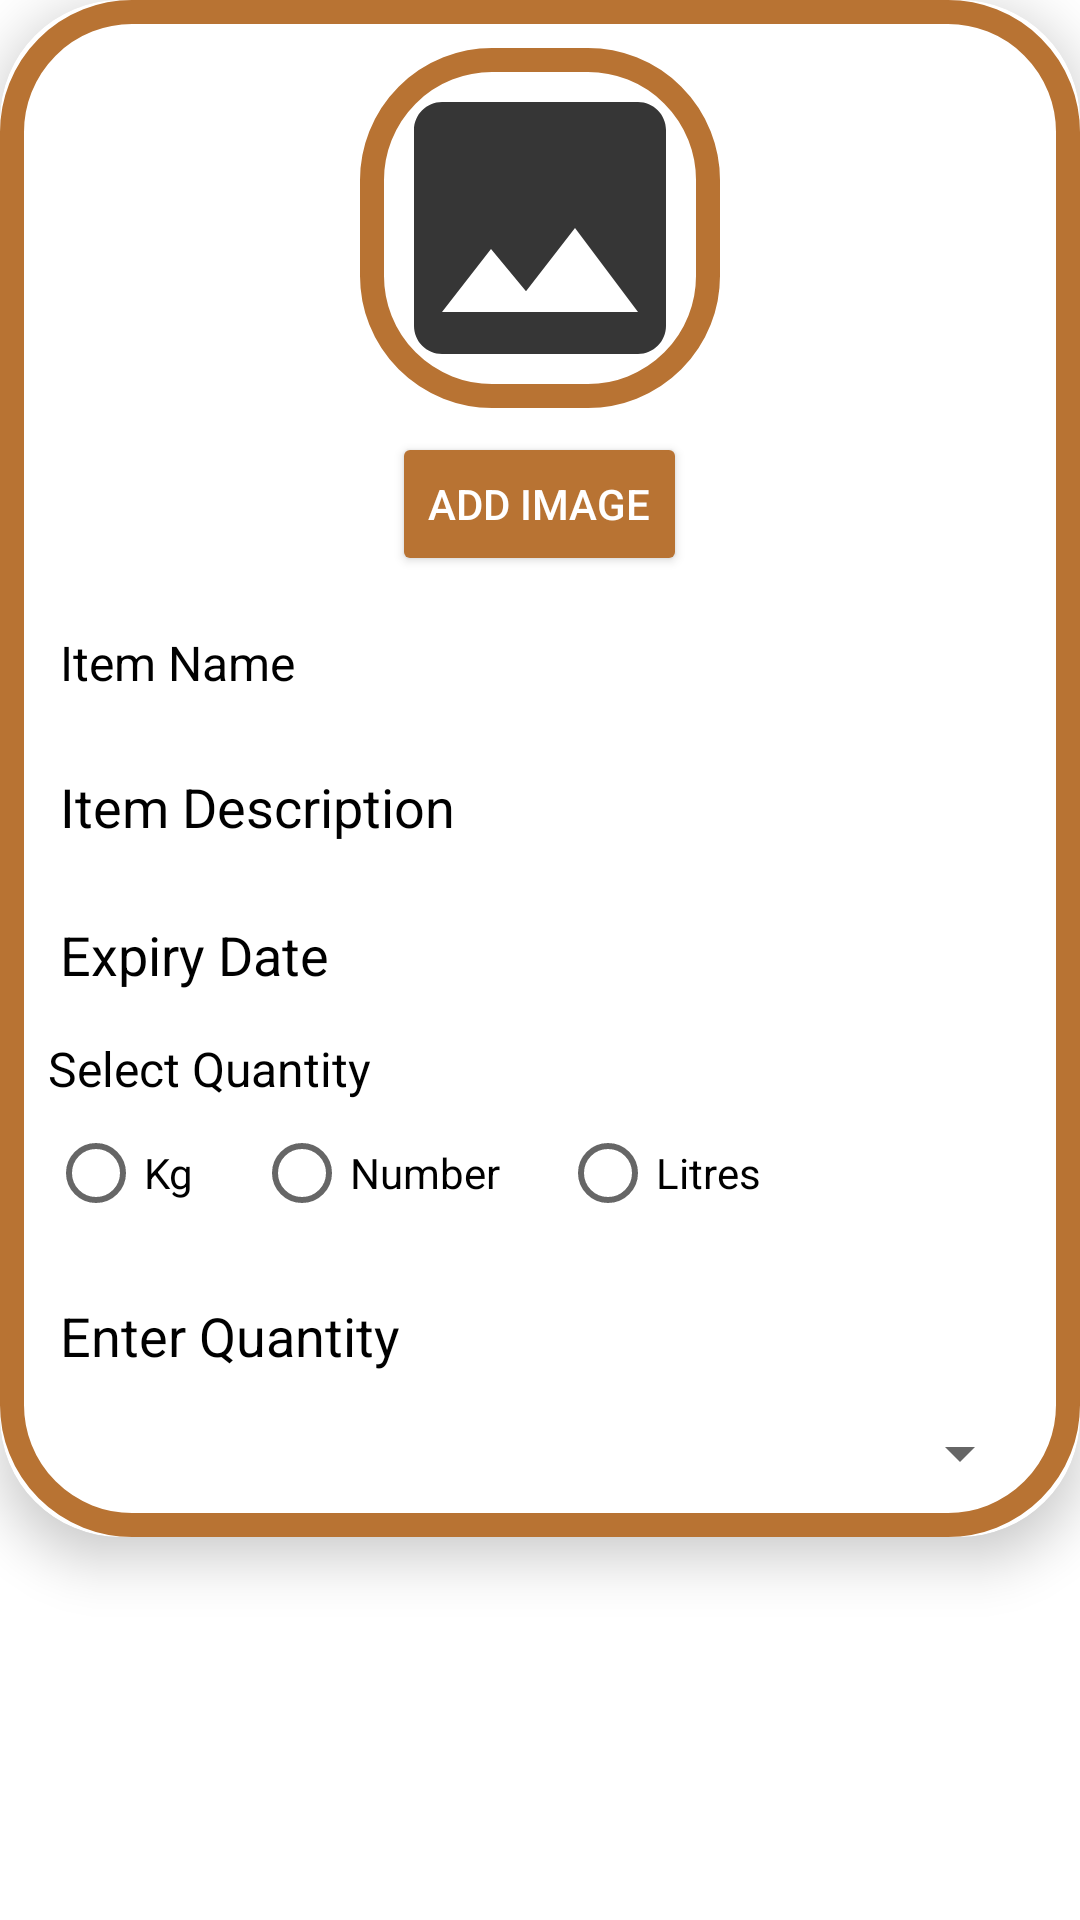

Icon click points for this 1080px×1920px phone screenshot, format (x=x, y=y):
Item Image: (x=540, y=228)
